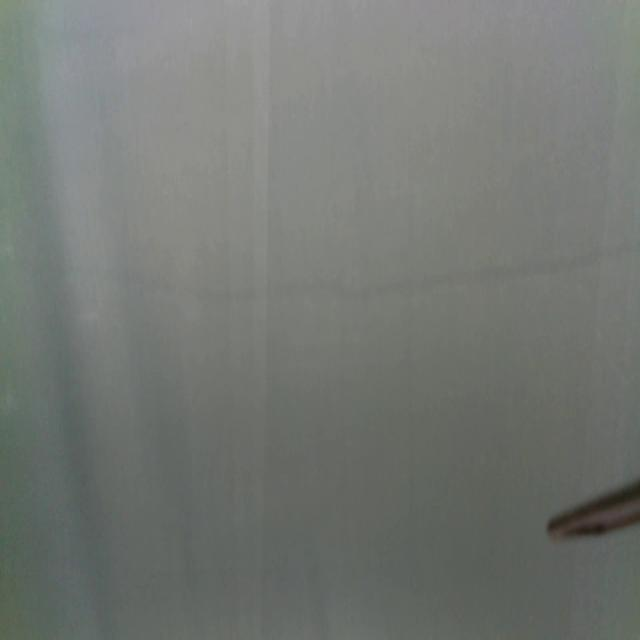color bleeding: (1, 233, 640, 312)
crease: (224, 0, 272, 631)
